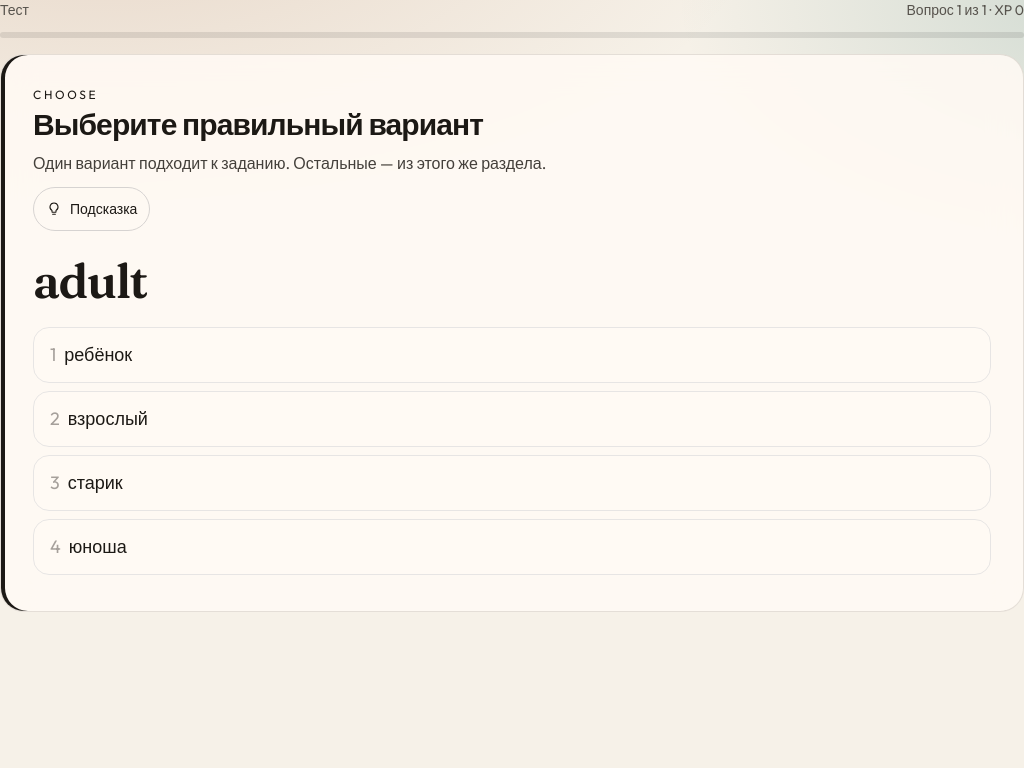
it: начисление XP › даёт +25 XP за завершение задания, отмечает его и открывает достижение
The image size is (1024, 768).
What coordinates should you click on to do the following:
click the button "2взрослый"
I would click on:
 (108, 418)
Its box is [33,391,991,447].
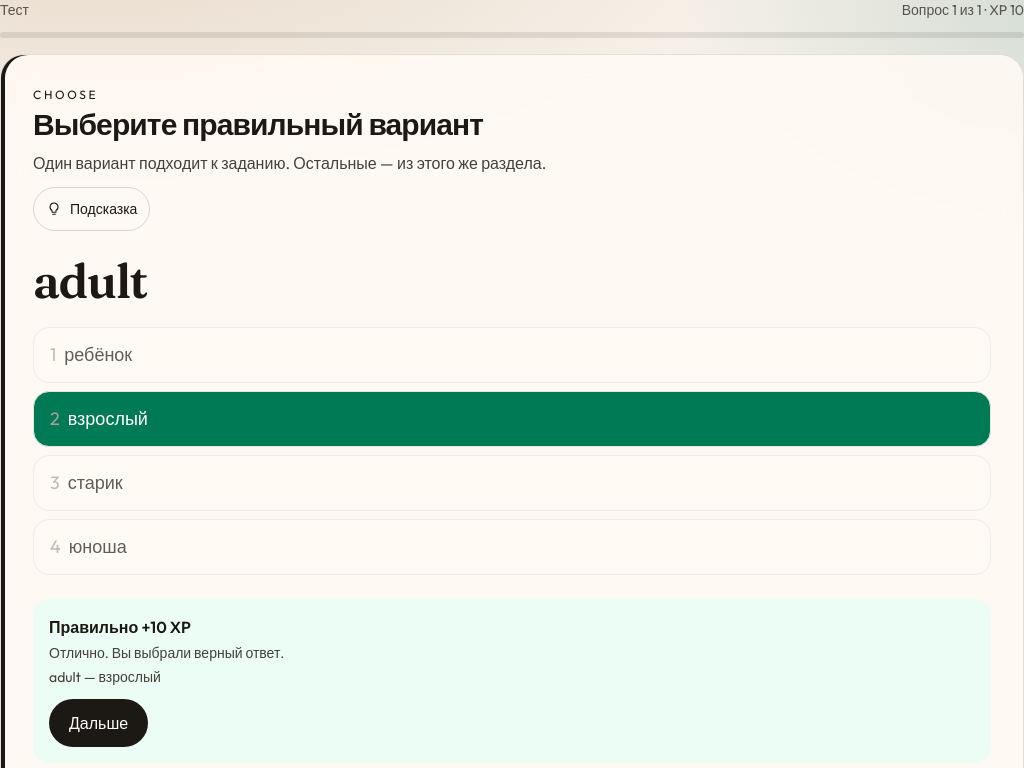
What coordinates should you click on to do the following:
click the button "Дальше"
I would click on:
 (99, 723)
Its box is [49,699,148,747].
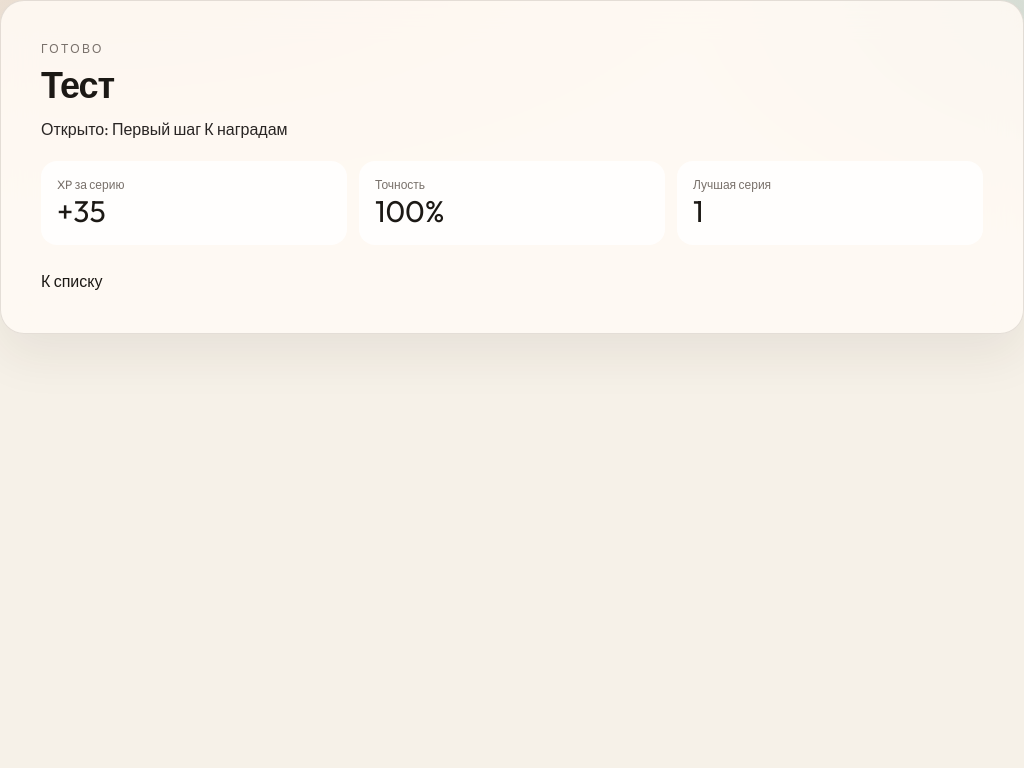
Result: the text "ГОТОВО" is shown at [41,41,104,56]
